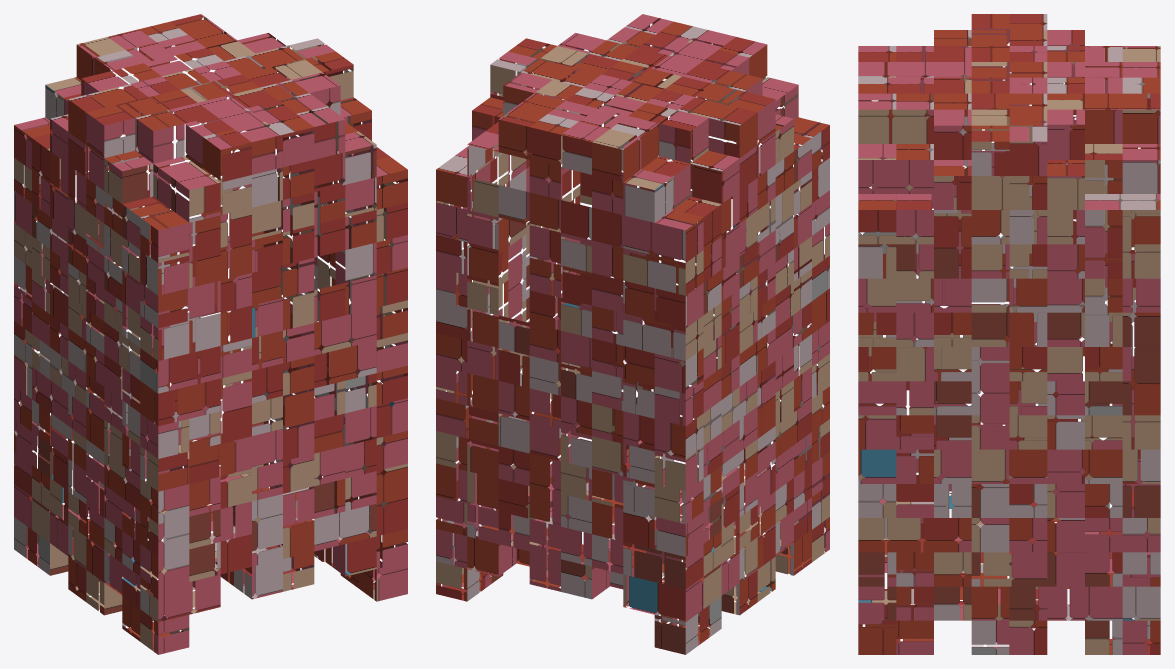
The model's file is ghost_2.fbx.
3 views of the same model, side by side, from view 1: azimuth 30°, elevation 25°; view 2: azimuth 150°, elevation 25°; view 3: azimuth 270°, elevation 25° (orthographic). The views are drawn at different scales.
Parts seen in each view (by area): view 1: ghost_2; view 2: ghost_2; view 3: ghost_2.
Boxes of the visible parts, x1,y1,x2,y2 form: ghost_2: [14, 14, 407, 654]; ghost_2: [436, 14, 829, 654]; ghost_2: [858, 14, 1160, 654].
Size of the model in its own units: 8000 by 15000 by 8000.
